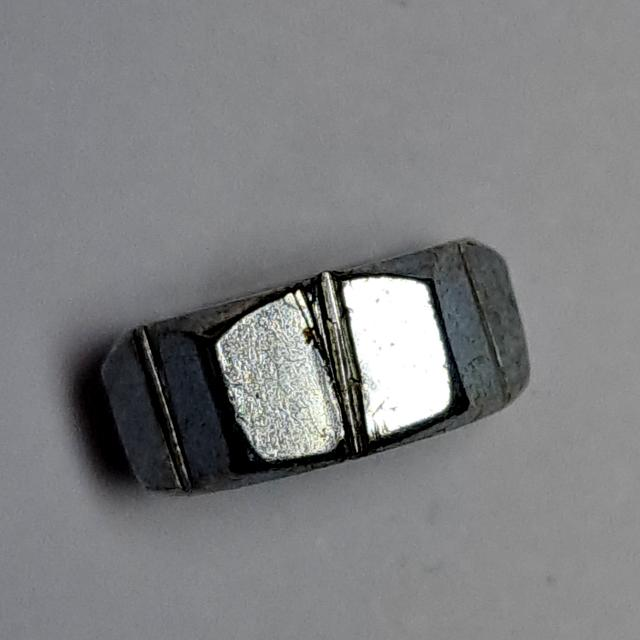Side_Scratches: (94, 227, 538, 510)
